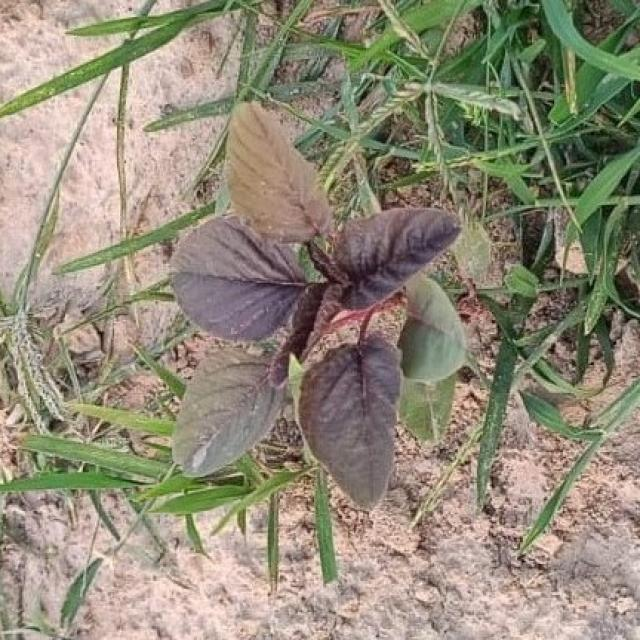plant: (173, 103, 467, 509)
